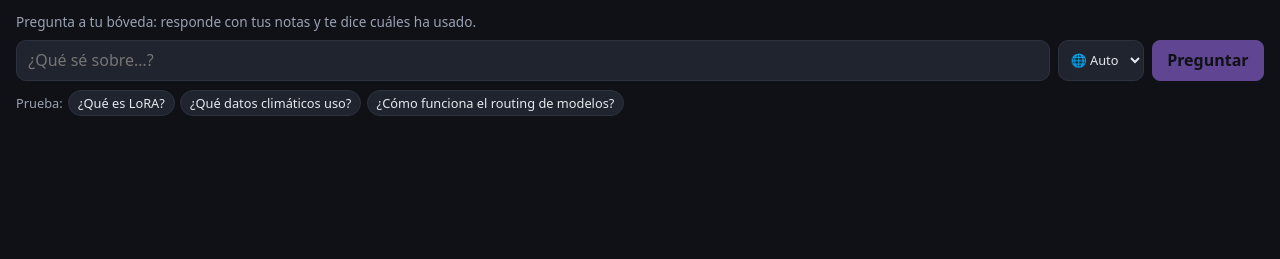
Test: AskPanel › responde con las notas citadas y lleva la cámara a la primera
Type "¿Qué es LoRA?" into the field labelled "Pregunta a tu bóveda" at point(533, 60), box [16, 40, 1050, 81]
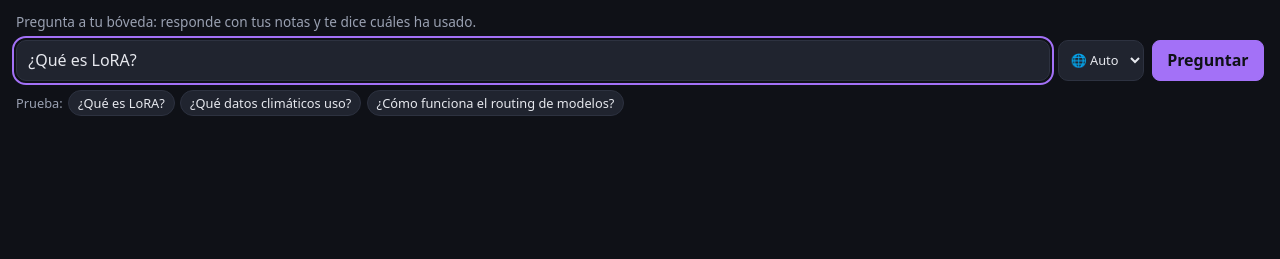
Click the button "Preguntar" at point(1208, 60), box [1152, 40, 1264, 81]
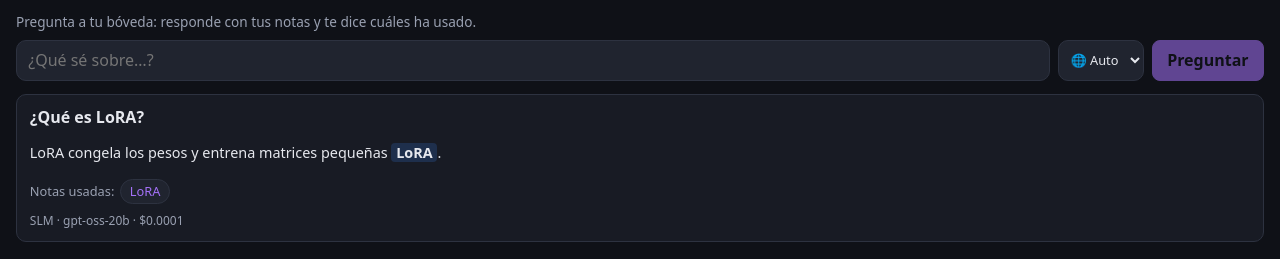
Expected: the text "LoRA congela los pesos y entrena matrices pequeñas LoRA." is shown, [30, 144, 441, 162]
Expected: the text "SLM · gpt-oss-20b · $0.0001" is shown, [30, 212, 184, 229]
